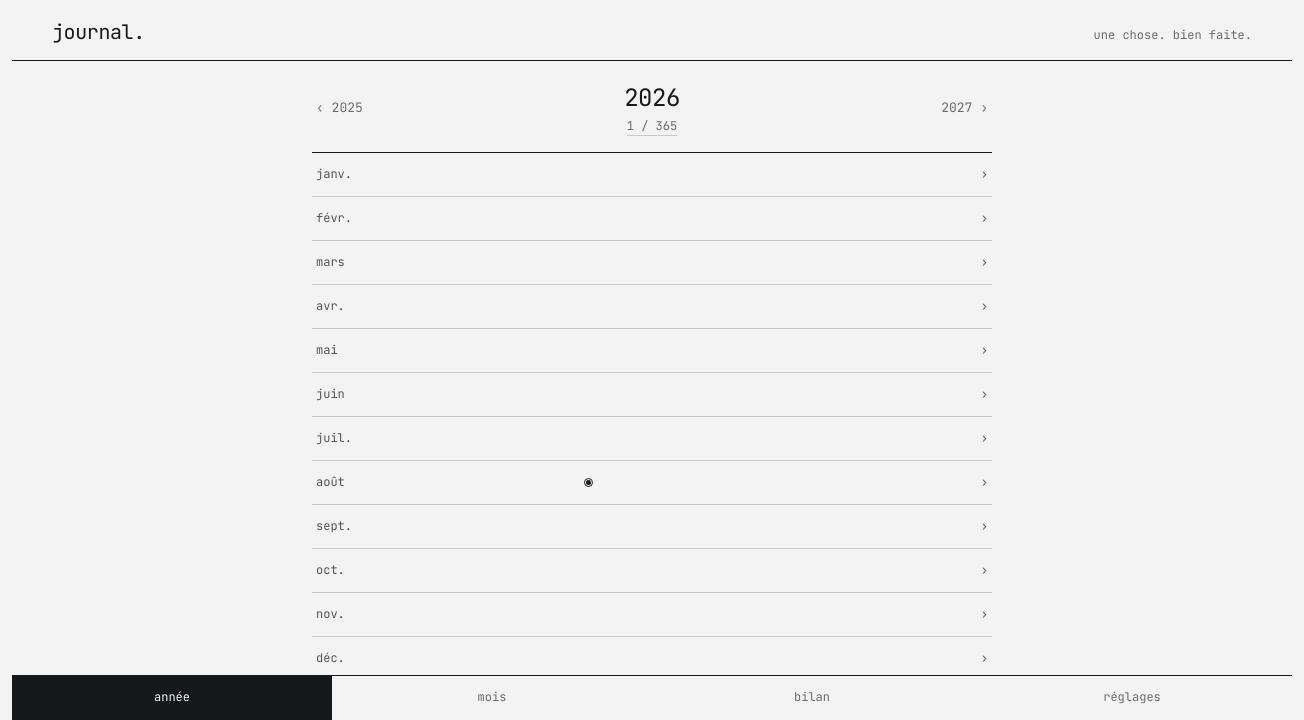
Test: JournalApp › ouvre un mois depuis sa ligne d’année, puis un jour depuis sa case
The image size is (1304, 720).
Click the button with aria-label "août 2026, 1 jour écrit" at point(330, 482), box [312,461,992,505]
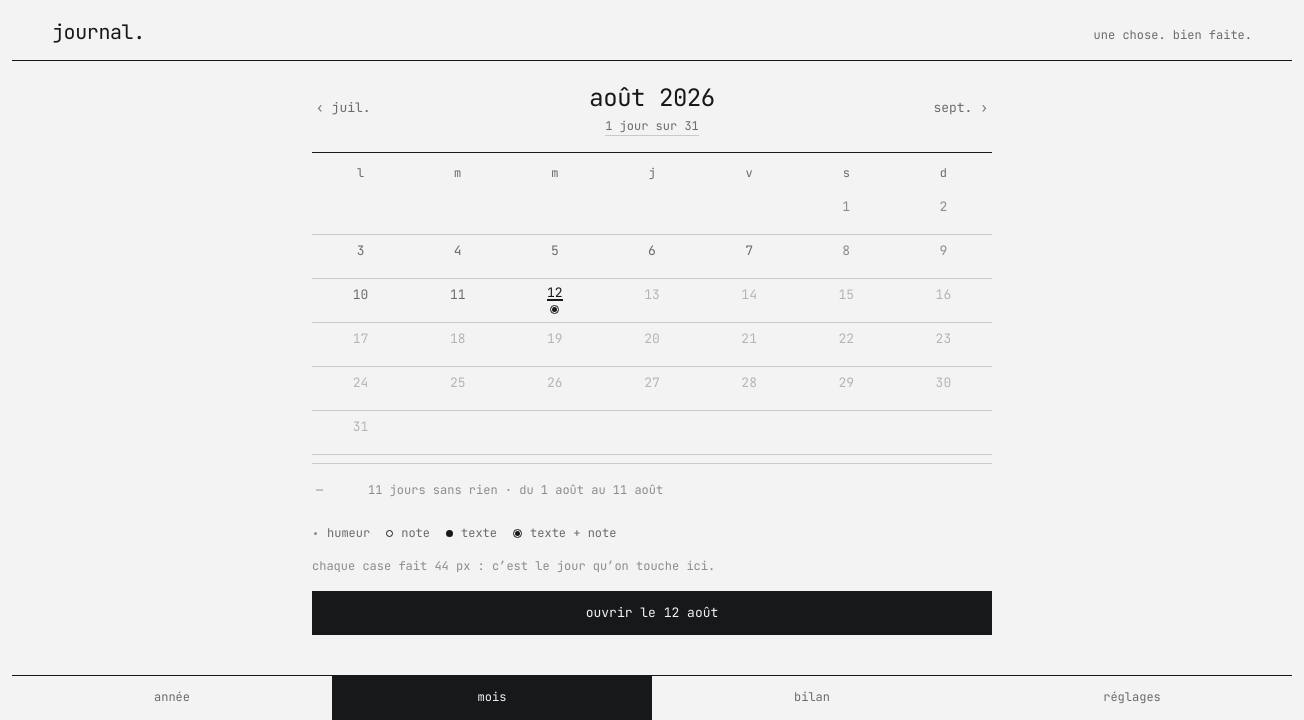
Now the text "août 2026" is shown, box [589,81,715,116]
Now the text "1 jour sur 31" is shown, box [605,118,699,136]
Click the button named "12 août 2026, texte + note, ouvrir" at point(555, 301), box [506,279,603,323]
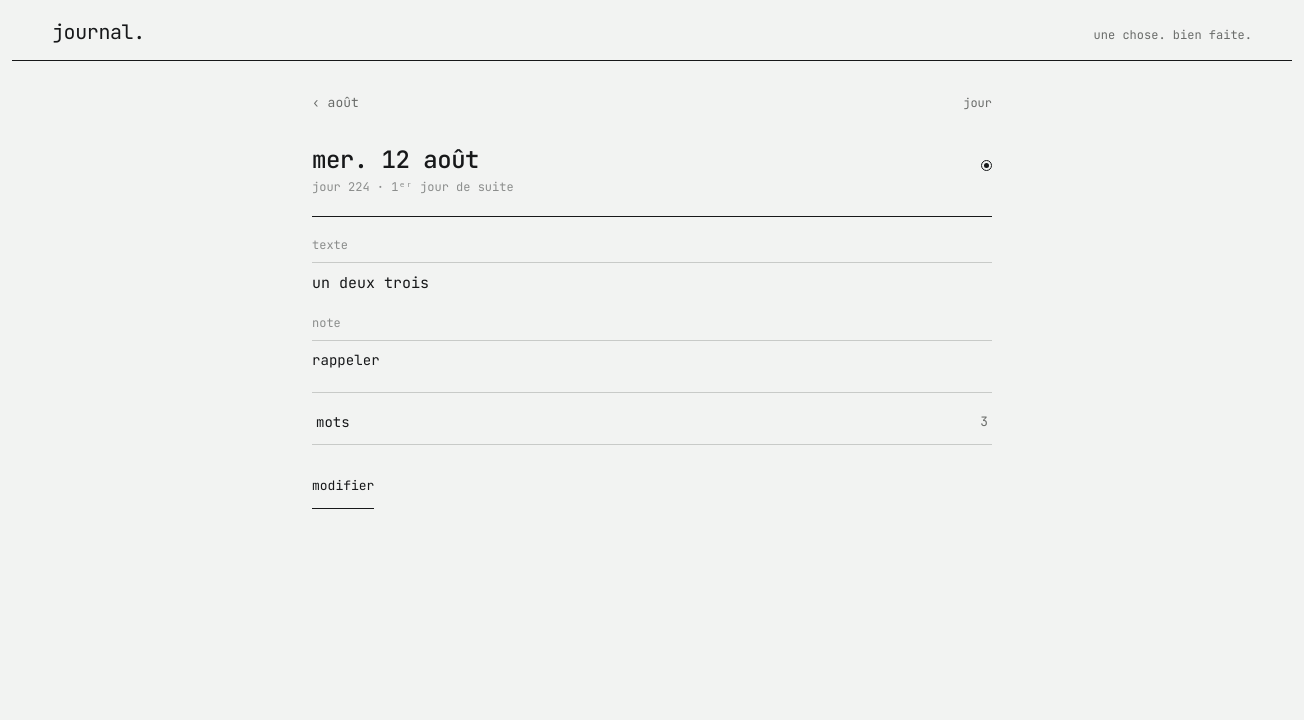
Now the text "un deux trois" is shown, box [312,273,429,293]
Now the text "rappeler" is shown, box [312,351,380,369]
